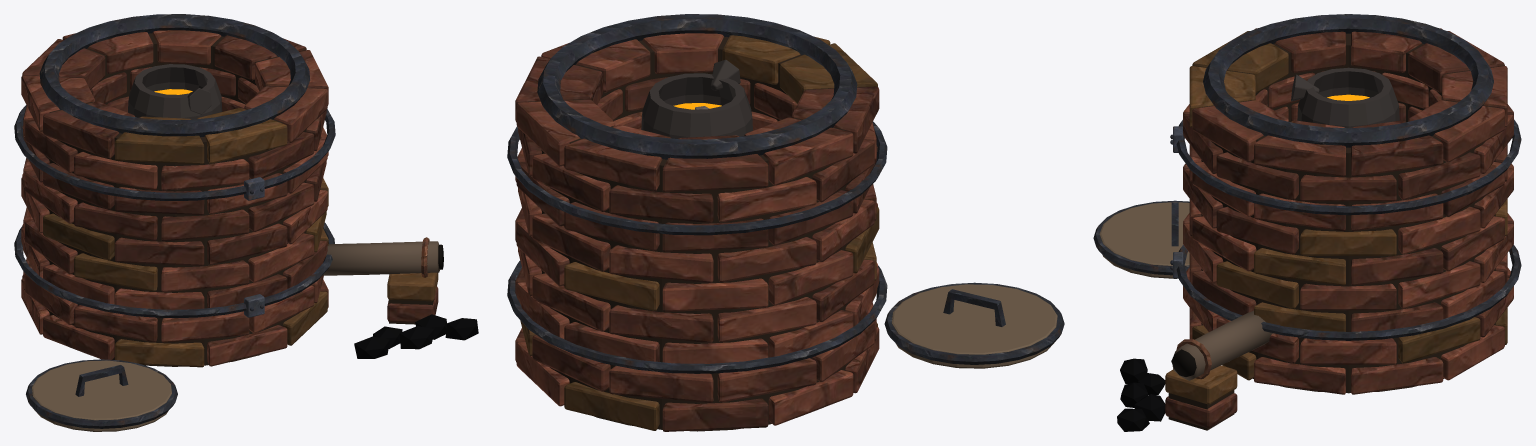
Rendered from cf_crucible_furnace.glb.
The picture shows the model from 3 angles, left to right: view 1: azimuth 30°, elevation 25°; view 2: azimuth 150°, elevation 25°; view 3: azimuth 270°, elevation 25°; orthographic projection. The views are drawn at different scales.
Visible parts, largest first — view 1: model; view 2: model; view 3: model.
Part boxes in pixels (bbox=[...]): model: bbox=[14, 14, 478, 431]; model: bbox=[507, 14, 1064, 431]; model: bbox=[1093, 14, 1521, 431].
Bounding box in the file's own units: 1.51 × 0.811 × 1.24.
20 materials, 9 textured.
